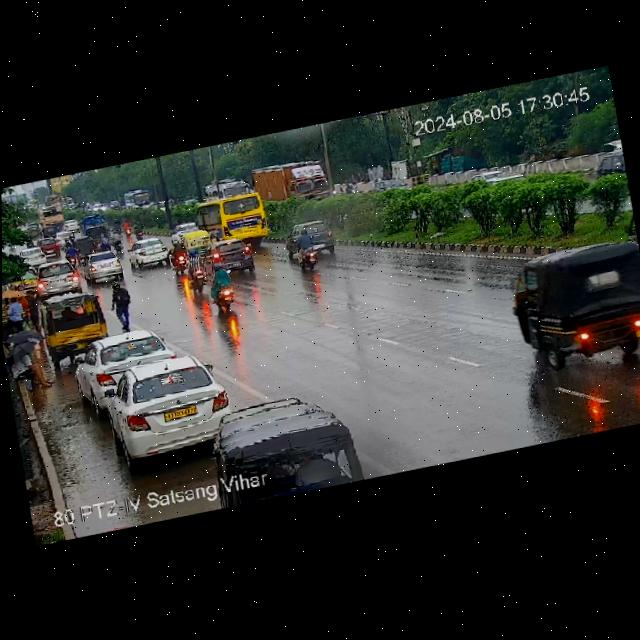bus: (197, 191, 273, 247), (205, 173, 250, 202), (124, 188, 153, 212)
car: (506, 231, 640, 373), (102, 350, 233, 463), (74, 323, 177, 401), (36, 287, 112, 353), (283, 214, 337, 259), (30, 258, 86, 301), (204, 236, 255, 278), (125, 235, 176, 272), (80, 248, 127, 284), (597, 146, 628, 186), (179, 225, 218, 256), (373, 174, 411, 194), (19, 243, 49, 262), (39, 235, 64, 257), (42, 220, 62, 240), (86, 224, 108, 242), (63, 218, 82, 234)
motorcycle: (289, 224, 322, 273), (210, 262, 235, 313), (186, 247, 208, 293), (168, 237, 189, 273), (93, 231, 112, 253), (63, 243, 82, 264), (61, 235, 78, 256), (131, 220, 146, 241), (111, 230, 125, 252), (121, 219, 132, 239), (343, 182, 358, 195), (112, 218, 121, 234)
person: (9, 341, 49, 395), (110, 278, 135, 333), (19, 287, 44, 330), (2, 295, 27, 334)
truck: (251, 155, 334, 211)
